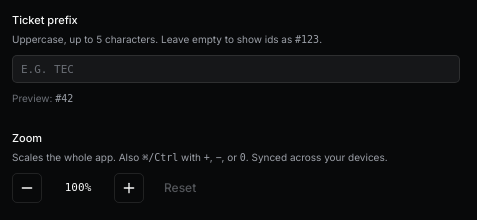
Test: GeneralSettings — zoom › zooms out one step
The width and height of the screenshot is (477, 220).
What coordinates should you click on to do the following:
click the button named "Zoom out"
I would click on:
 (27, 188)
Its box is [12,173,42,203].
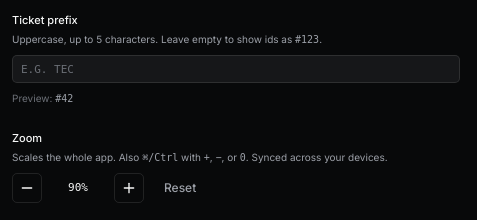
Now the text "90%" is shown, box [68,181,88,194]
